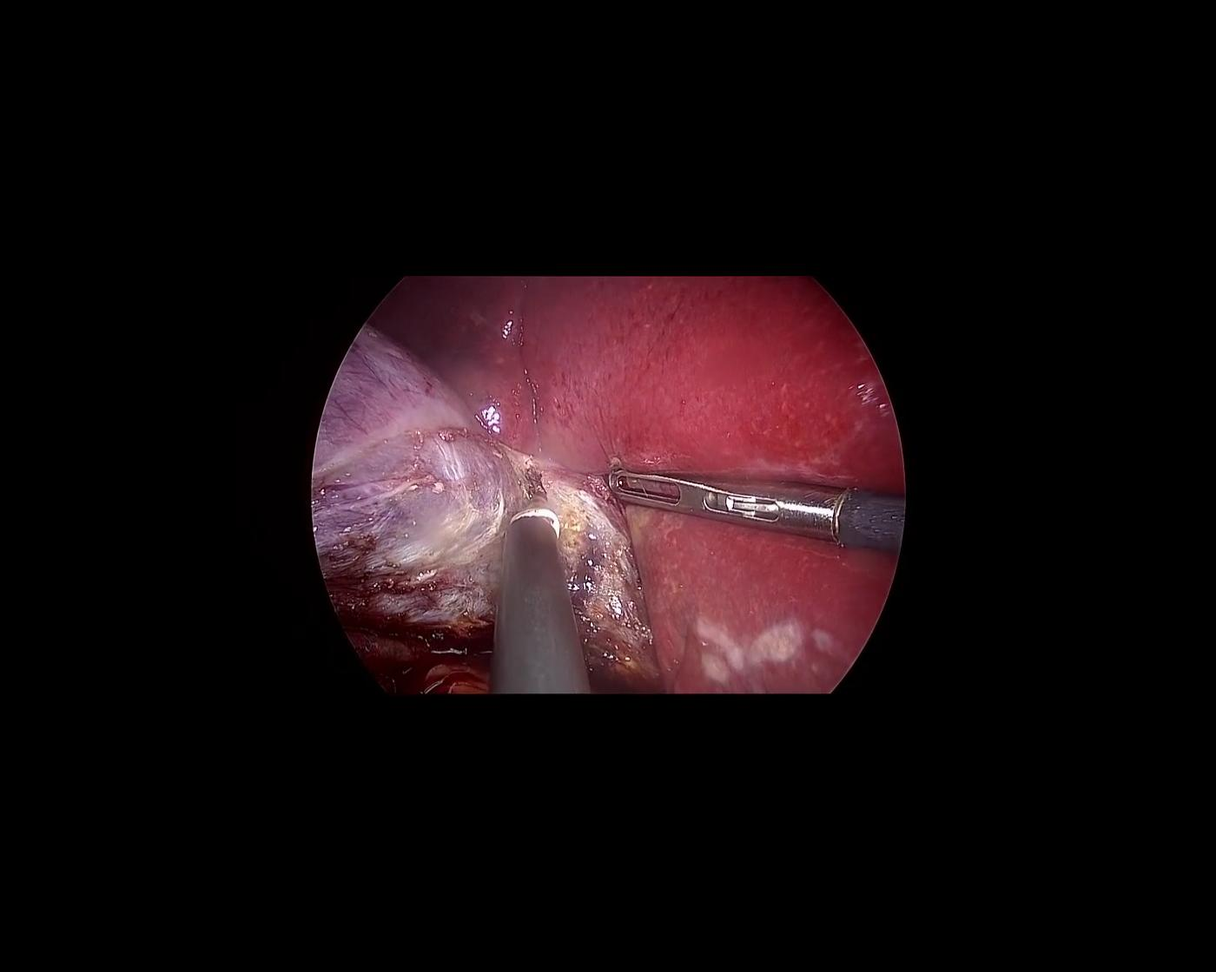Cautery: (484, 461, 594, 693)
Forceps: (602, 462, 903, 552)
Gallbladder: (293, 309, 520, 586)
Liver: (368, 277, 905, 693)
